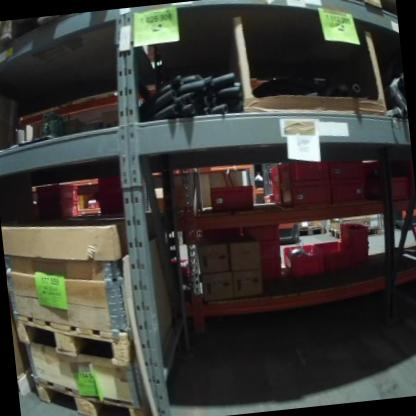pallet: (11, 300, 137, 377), (31, 366, 153, 416), (318, 0, 396, 19), (329, 222, 377, 240), (296, 226, 325, 237)
small_load_carrier: (279, 180, 333, 212), (282, 241, 325, 280), (277, 157, 331, 186), (316, 235, 352, 272), (209, 181, 256, 209), (329, 176, 371, 205), (34, 181, 82, 205), (327, 153, 368, 180), (36, 200, 78, 222), (242, 223, 284, 243), (339, 221, 368, 248), (257, 238, 283, 262), (261, 259, 283, 282), (349, 246, 371, 266), (270, 183, 286, 205), (268, 164, 284, 184), (84, 199, 99, 213)
